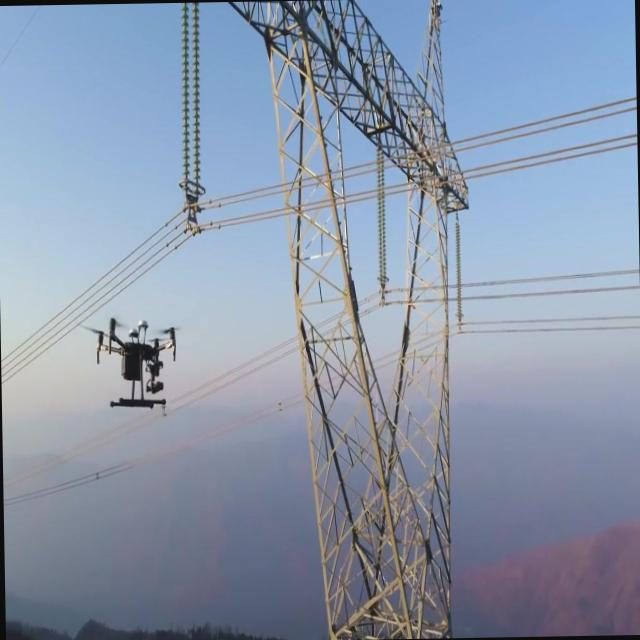drone: (95, 312, 179, 408)
